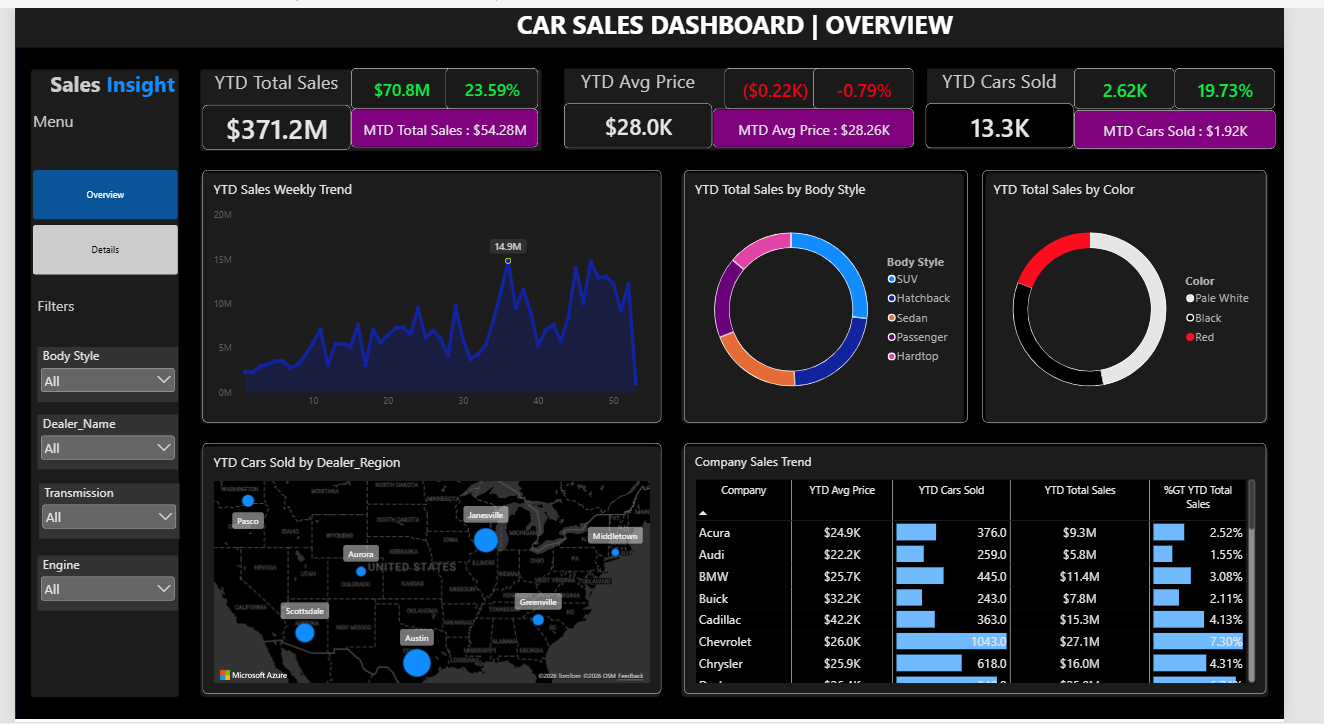

The dashboard page shown, as its layout file describes it:
{"tool":"powerbi","page":{"name":"Overview ","canvas":[1920,1080],"ordinal":0},"visuals":[{"type":"cardVisual","title":"YTD Total Sales","fields":{"Data":["car_data.YTD Total Sales"]},"box":[283.9,93.1,224.3,121.7],"z":0},{"type":"cardVisual","fields":{"Data":["car_data.Sales Difference"]},"box":[508.2,90.7,152.7,62],"z":1},{"type":"cardVisual","fields":{"Data":["car_data.YoY Sales Growth"]},"box":[651.4,90.7,140.8,62],"z":2},{"type":"cardVisual","fields":{"Data":["car_data.MTD KPI"]},"box":[508.2,152.7,283.9,59.6],"z":3},{"type":"cardVisual","title":"YTD Avg Price","fields":{"Data":["car_data.YTD Avg Price"]},"box":[830.3,90.7,224.3,121.7],"z":4},{"type":"cardVisual","fields":{"Data":["car_data.Avg Price diff"]},"box":[1073.7,90.7,152.7,62],"z":5},{"type":"cardVisual","fields":{"Data":["car_data.YoY Avg Price Growth"]},"box":[1207.3,90.7,152.7,62],"z":6},{"type":"cardVisual","fields":{"Data":["car_data.MTD Avg Price KPI"]},"box":[1054.6,152.7,305.4,59.6],"z":7},{"type":"cardVisual","title":"YTD Cars Sold","fields":{"Data":["car_data.YTD Cars Sold"]},"box":[1376.7,90.7,224.3,121.7],"z":8},{"type":"cardVisual","fields":{"Data":["car_data.Cars Sold Diff"]},"box":[1600.9,90.7,152.7,62],"z":9},{"type":"cardVisual","fields":{"Data":["car_data.YoY Cars Sold Growth"]},"box":[1753.6,90.7,152.7,62],"z":10},{"type":"cardVisual","fields":{"Data":["car_data.MTD Cars Sold KPI"]},"box":[1600.9,155.1,305.4,59.6],"z":11},{"type":"areaChart","title":"YTD Sales Weekly Trend","fields":{"Category":["Calendar Table.Week"],"Y":["car_data.Max Point","Sum(car_data.Price ($))"]},"box":[283.9,245.7,694.3,381.7],"z":12},{"type":"donutChart","fields":{"Category":["car_data.Body Style"],"Y":["car_data.YTD Total Sales"]},"box":[1011.6,245.7,429.5,381.7],"z":13},{"type":"donutChart","fields":{"Category":["car_data.Color"],"Y":["car_data.YTD Total Sales"]},"box":[1462.6,245.7,429.5,381.7],"z":14},{"type":"azureMap","fields":{"Category":["car_data.Dealer_Region"],"Size":["car_data.YTD Cars Sold"]},"box":[283.9,658.5,694.3,379.4],"z":15},{"type":"tableEx","title":"Company Sales Trend","fields":{"Values":["car_data.Company","car_data.YTD Avg Price","car_data.YTD Cars Sold","car_data.YTD Total Sales1","car_data.YTD Total Sales"]},"box":[1011.6,658.5,880.4,379.4],"z":16},{"type":"textbox","box":[722.9,0,730.1,69.2],"z":17},{"type":"slicer","fields":{"Values":["car_data.Body Style"]},"box":[33.4,513,212.3,83.5],"z":18},{"type":"slicer","fields":{"Values":["car_data.Dealer_Name"]},"box":[33.4,615.6,212.3,83.5],"z":19},{"type":"slicer","fields":{"Values":["car_data.Transmission"]},"box":[35.8,718.2,212.3,83.5],"z":20},{"type":"slicer","fields":{"Values":["car_data.Engine"]},"box":[33.4,827.9,212.3,83.5],"z":21},{"type":"textbox","box":[33.4,436.6,143.2,47.7],"z":22},{"type":"textbox","box":[26.2,93.1,241,59.6],"z":23},{"type":"textbox","box":[26.2,155.1,114.5,57.3],"z":24},{"type":"pageNavigator","box":[26.2,245.7,219.5,159.9],"z":25}]}

Visuals, with their boxes in screenshot pixels (x1, y1, x2, y2), scaled from the page's 1920x1080 canvas onto the 1324x724 screenshot:
"YTD Total Sales" cardVisual: [x1=196, y1=62, x2=350, y2=144]
cardVisual - car_data.Sales Difference: [x1=350, y1=61, x2=456, y2=102]
cardVisual - car_data.YoY Sales Growth: [x1=449, y1=61, x2=546, y2=102]
cardVisual - car_data.MTD KPI: [x1=350, y1=102, x2=546, y2=142]
"YTD Avg Price" cardVisual: [x1=573, y1=61, x2=727, y2=142]
cardVisual - car_data.Avg Price diff: [x1=740, y1=61, x2=846, y2=102]
cardVisual - car_data.YoY Avg Price Growth: [x1=833, y1=61, x2=938, y2=102]
cardVisual - car_data.MTD Avg Price KPI: [x1=727, y1=102, x2=938, y2=142]
"YTD Cars Sold" cardVisual: [x1=949, y1=61, x2=1104, y2=142]
cardVisual - car_data.Cars Sold Diff: [x1=1104, y1=61, x2=1209, y2=102]
cardVisual - car_data.YoY Cars Sold Growth: [x1=1209, y1=61, x2=1315, y2=102]
cardVisual - car_data.MTD Cars Sold KPI: [x1=1104, y1=104, x2=1315, y2=144]
"YTD Sales Weekly Trend" areaChart: [x1=196, y1=165, x2=675, y2=421]
donutChart - car_data.Body Style x car_data.YTD Total Sales: [x1=698, y1=165, x2=994, y2=421]
donutChart - car_data.Color x car_data.YTD Total Sales: [x1=1009, y1=165, x2=1305, y2=421]
azureMap - car_data.Dealer_Region x car_data.YTD Cars Sold: [x1=196, y1=441, x2=675, y2=696]
"Company Sales Trend" tableEx: [x1=698, y1=441, x2=1305, y2=696]
textbox: [x1=498, y1=0, x2=1002, y2=46]
slicer - car_data.Body Style: [x1=23, y1=344, x2=169, y2=400]
slicer - car_data.Dealer_Name: [x1=23, y1=413, x2=169, y2=469]
slicer - car_data.Transmission: [x1=25, y1=481, x2=171, y2=537]
slicer - car_data.Engine: [x1=23, y1=555, x2=169, y2=611]
textbox: [x1=23, y1=293, x2=122, y2=325]
textbox: [x1=18, y1=62, x2=184, y2=102]
textbox: [x1=18, y1=104, x2=97, y2=142]
pageNavigator: [x1=18, y1=165, x2=169, y2=272]
